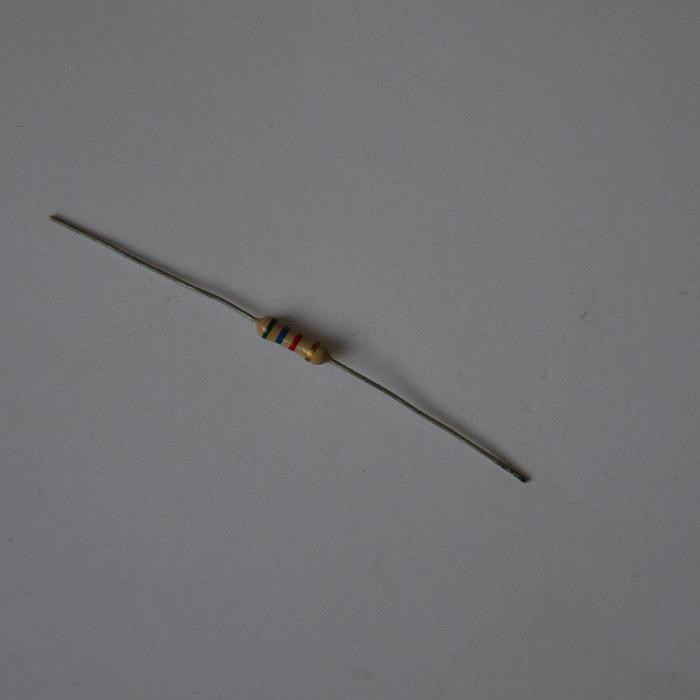resistor: (254, 315, 326, 364)
